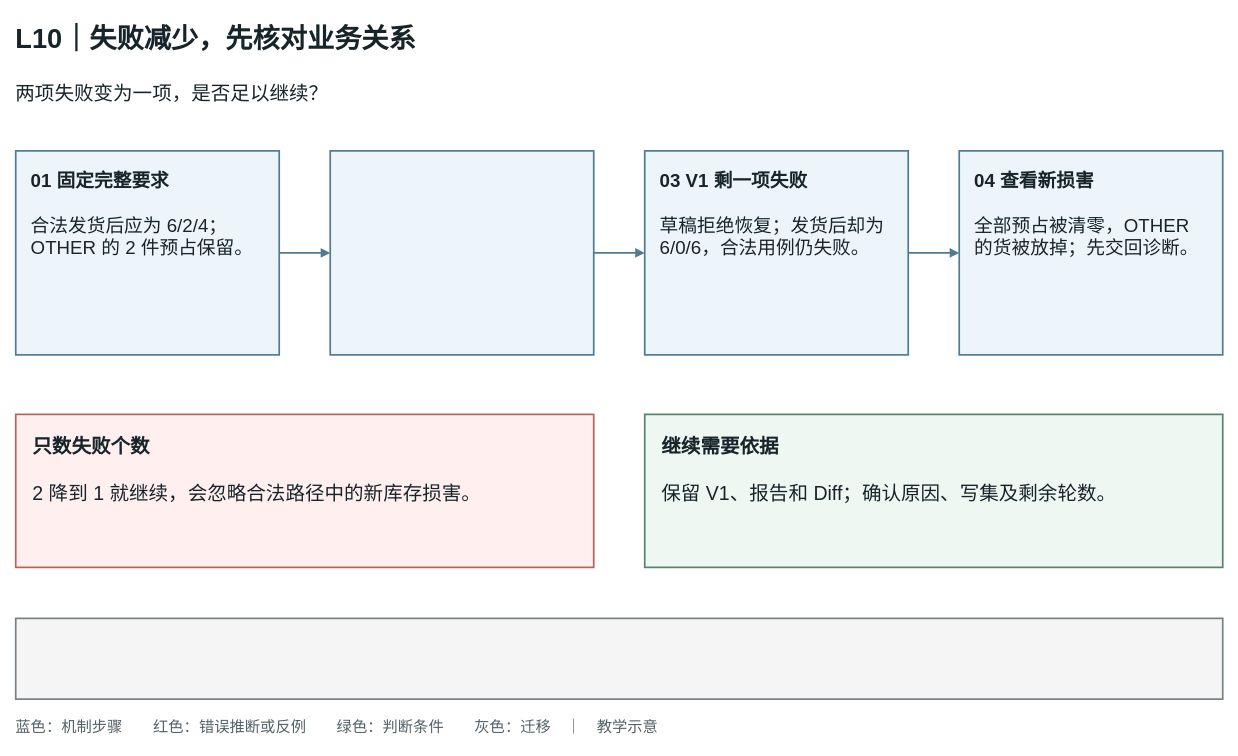
Some shapes in this 1238 by 756 pixel diagram are drawn without their labels. Each missing label, with the box of its shape:
02 V0 两项失败 合法 TARGET 被拒绝，草 稿却被放行。: (329, 150, 594, 355)
迁移到导出 编码问题恢复，却丢客户编号；依固定字段要求判断。: (14, 617, 1223, 700)
